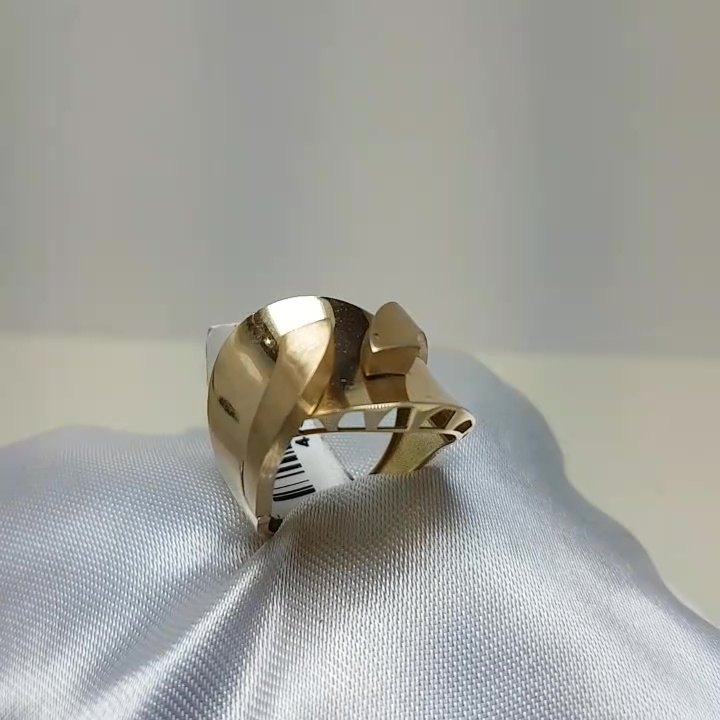Ring 4: (183, 271, 479, 552)
